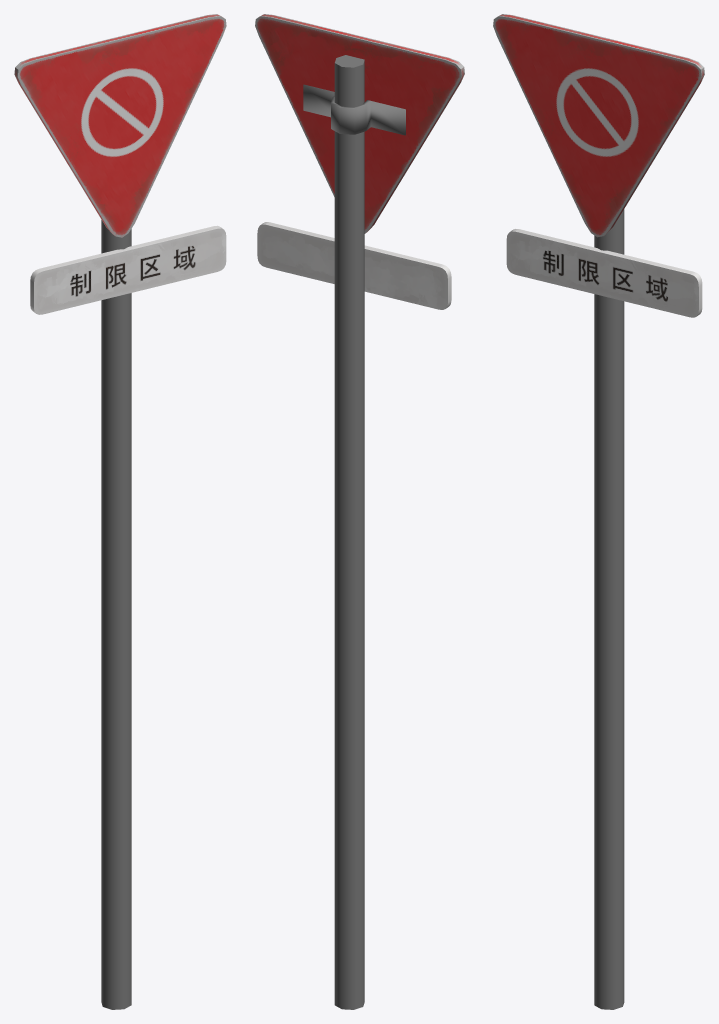
Rendered from SM_sign_traffic_007.fbx.
3 renders of one model, left to right at view 1: azimuth 30°, elevation 25°; view 2: azimuth 150°, elevation 25°; view 3: azimuth 330°, elevation 25°, orthographic.
Parts seen in each view (by area): view 1: Object32691; view 2: Object32691; view 3: Object32691.
Part boxes in pixels (<box>): Object32691: <box>14,14,226,1009</box>; Object32691: <box>255,14,464,1009</box>; Object32691: <box>493,14,704,1009</box>.
Size of the model in its own units: 24.22 by 108 by 4.02.
